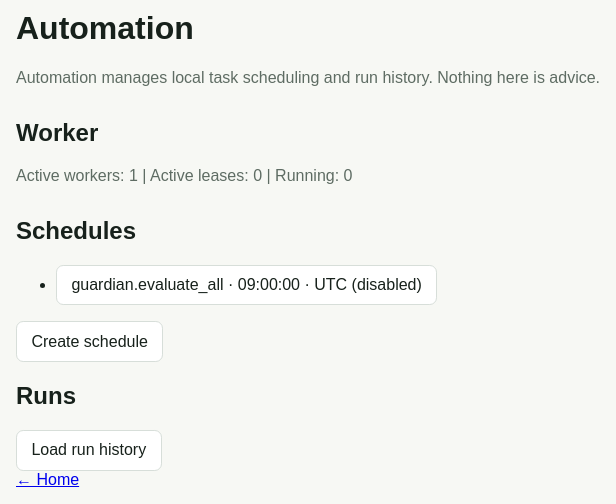
Test: AutomationClient — UI states › enable: explicit action
Click the button "guardian.evaluate_all · 09:00:00 · UTC (disabled)": (247, 285) [56,265,437,306]
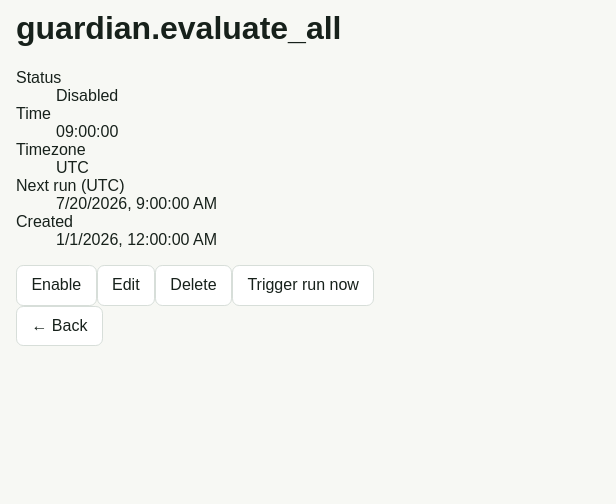
Result: the button with aria-label "Enable schedule" is shown at [16,265,97,306]
